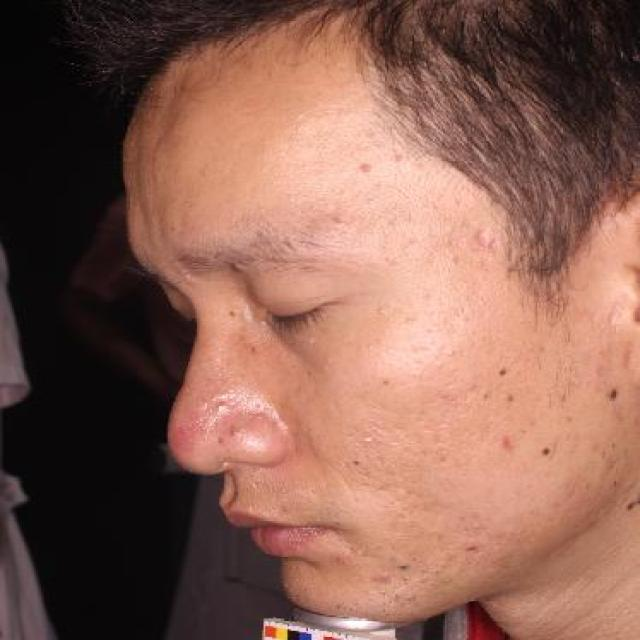Acne: (352, 160, 377, 178), (493, 434, 517, 451), (210, 400, 228, 412)
Blackheads: (597, 378, 633, 404), (342, 450, 370, 472), (393, 560, 415, 574)
Dark-Spots: (489, 356, 516, 383), (534, 441, 563, 462)
Whiteheads: (325, 210, 354, 233)
